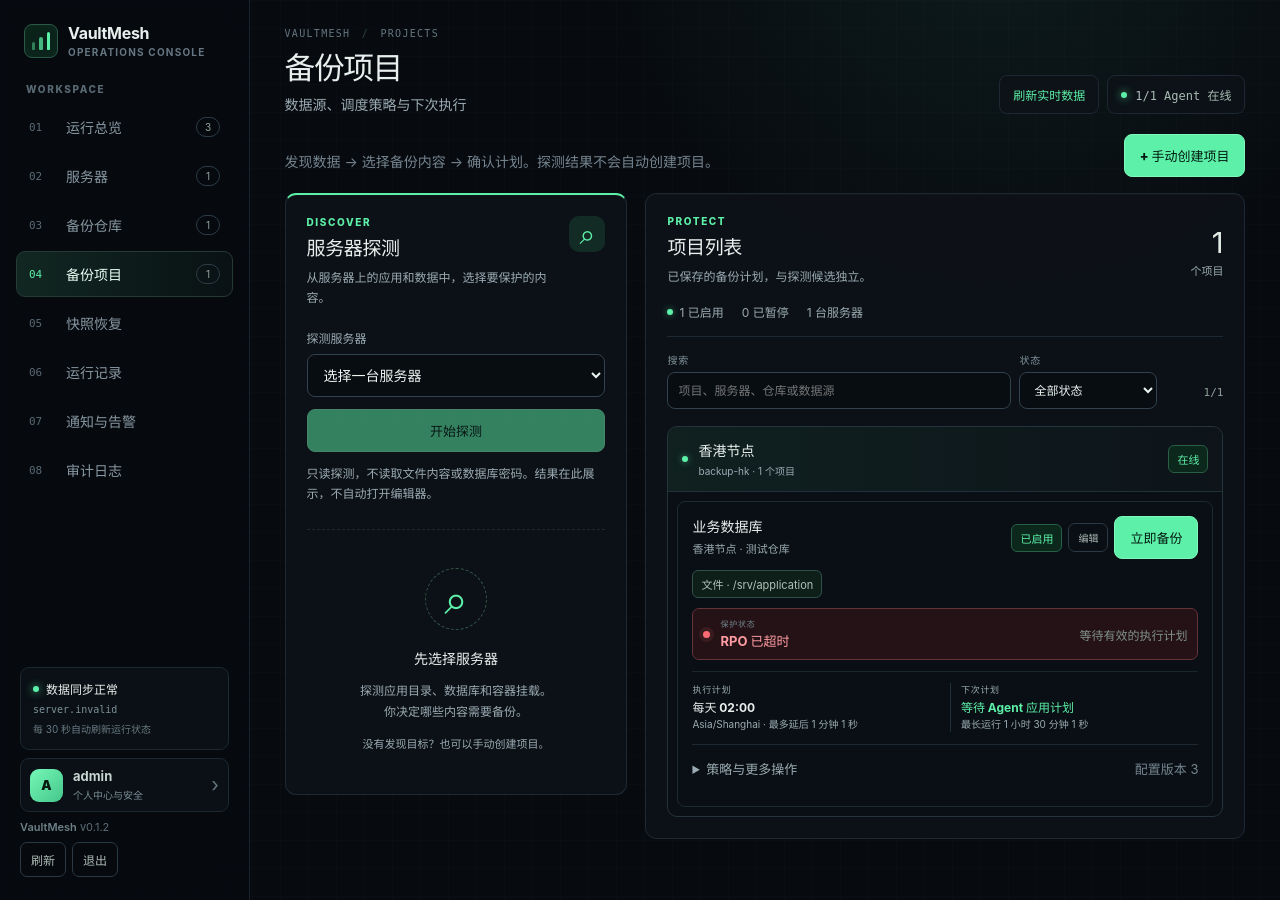
Test: complete application pages › renders the actual project list with queued-action props, then opens an editor without losing its draft
Expected: the element that starts with "PROTECT" is shown, [645,193,1245,839]
Click the button "编辑": (1088, 538) [1068,523,1108,552]
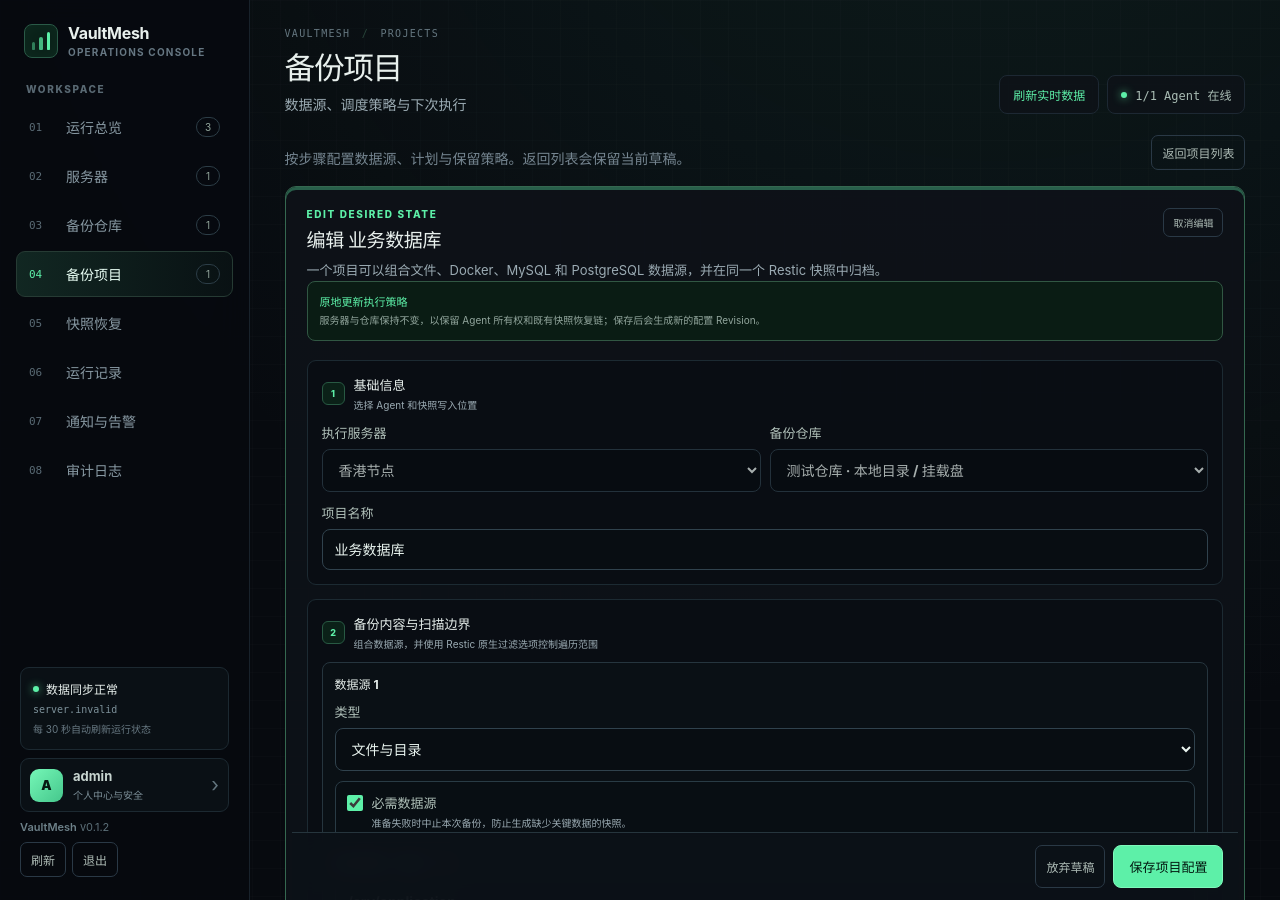
Replace the text in the field labelled "项目名称" with "尚未保存的修改": (765, 549) [322,529,1208,570]
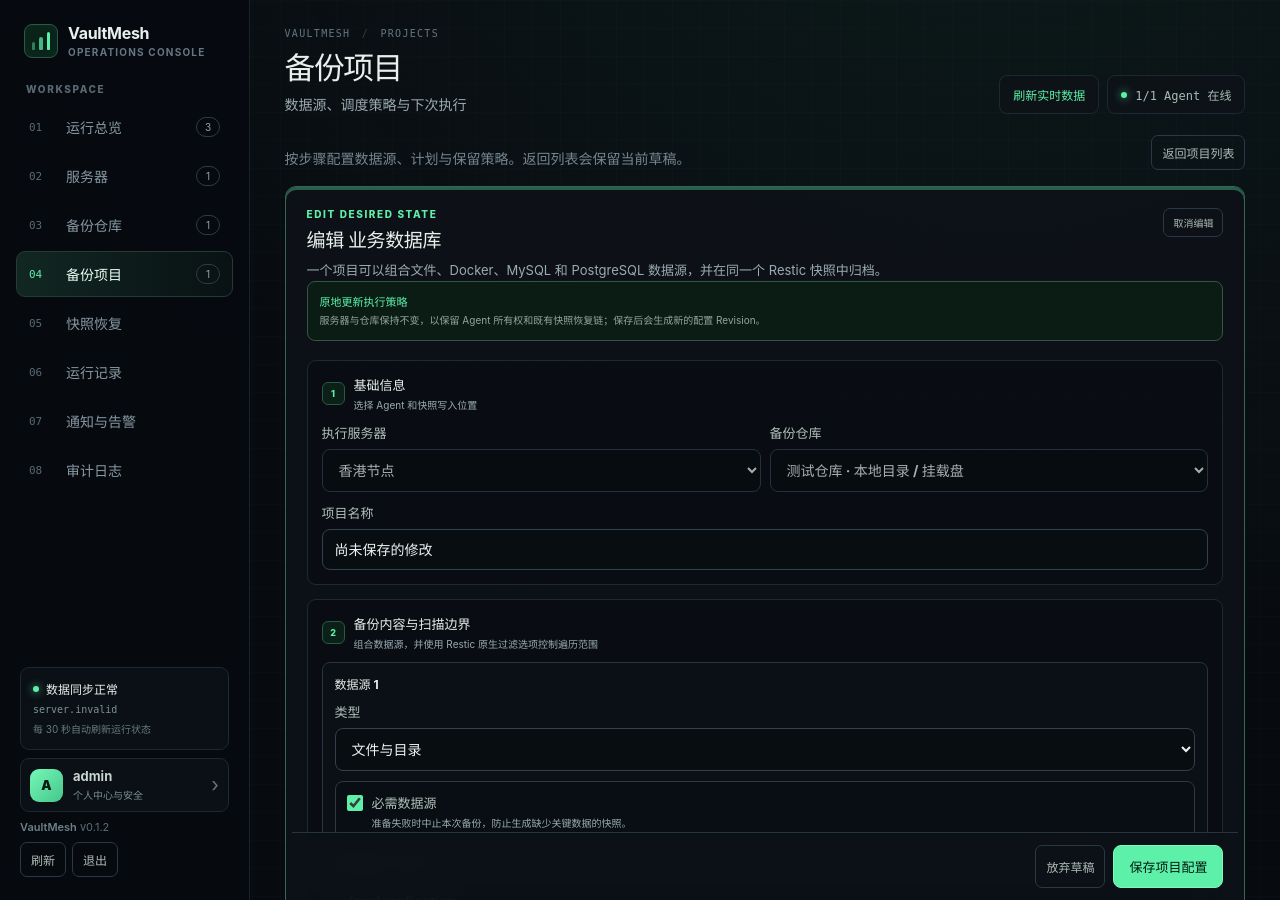
Click the button "返回项目列表": (1198, 152) [1151,135,1245,170]
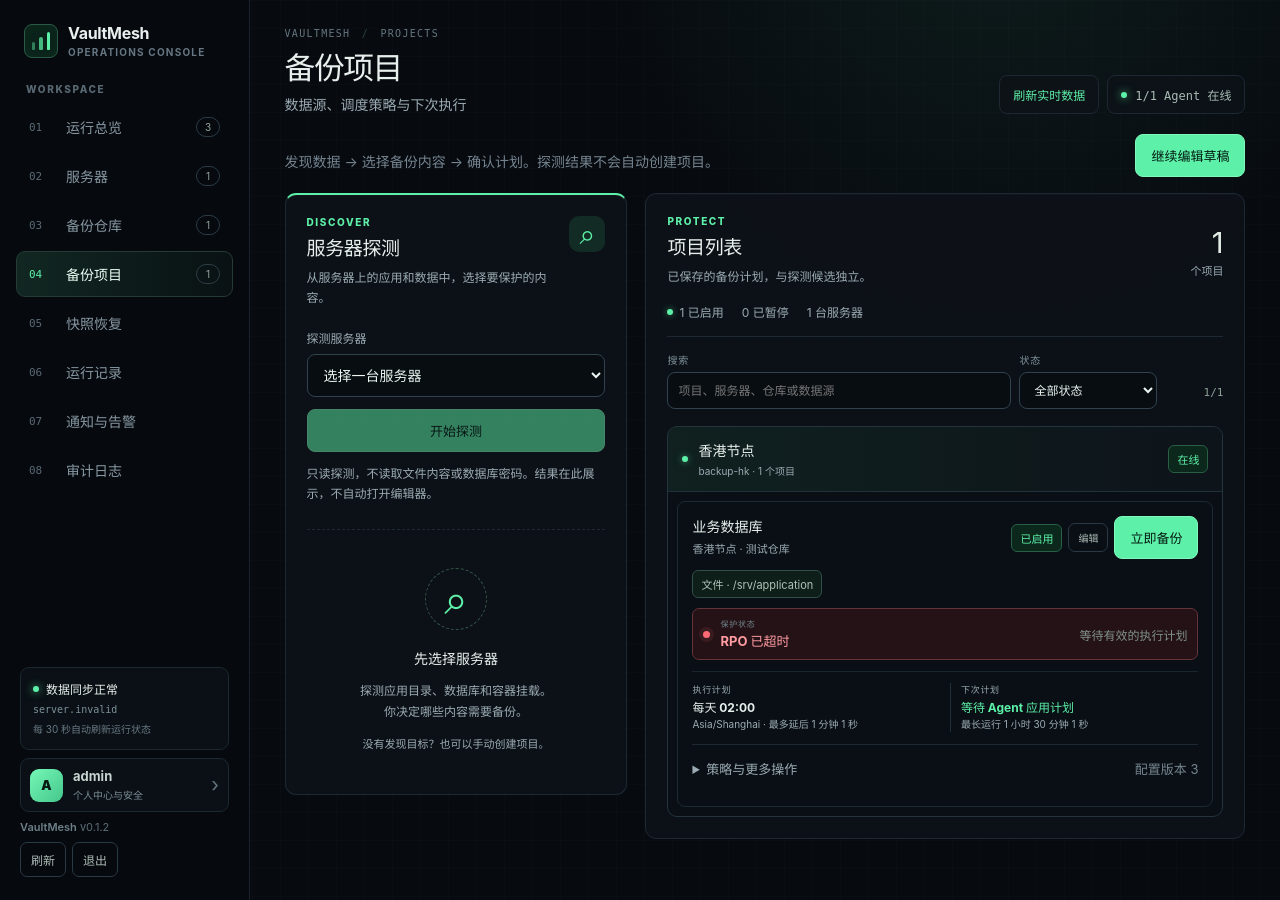
Click the button "继续编辑草稿": (1190, 156) [1135,134,1245,177]
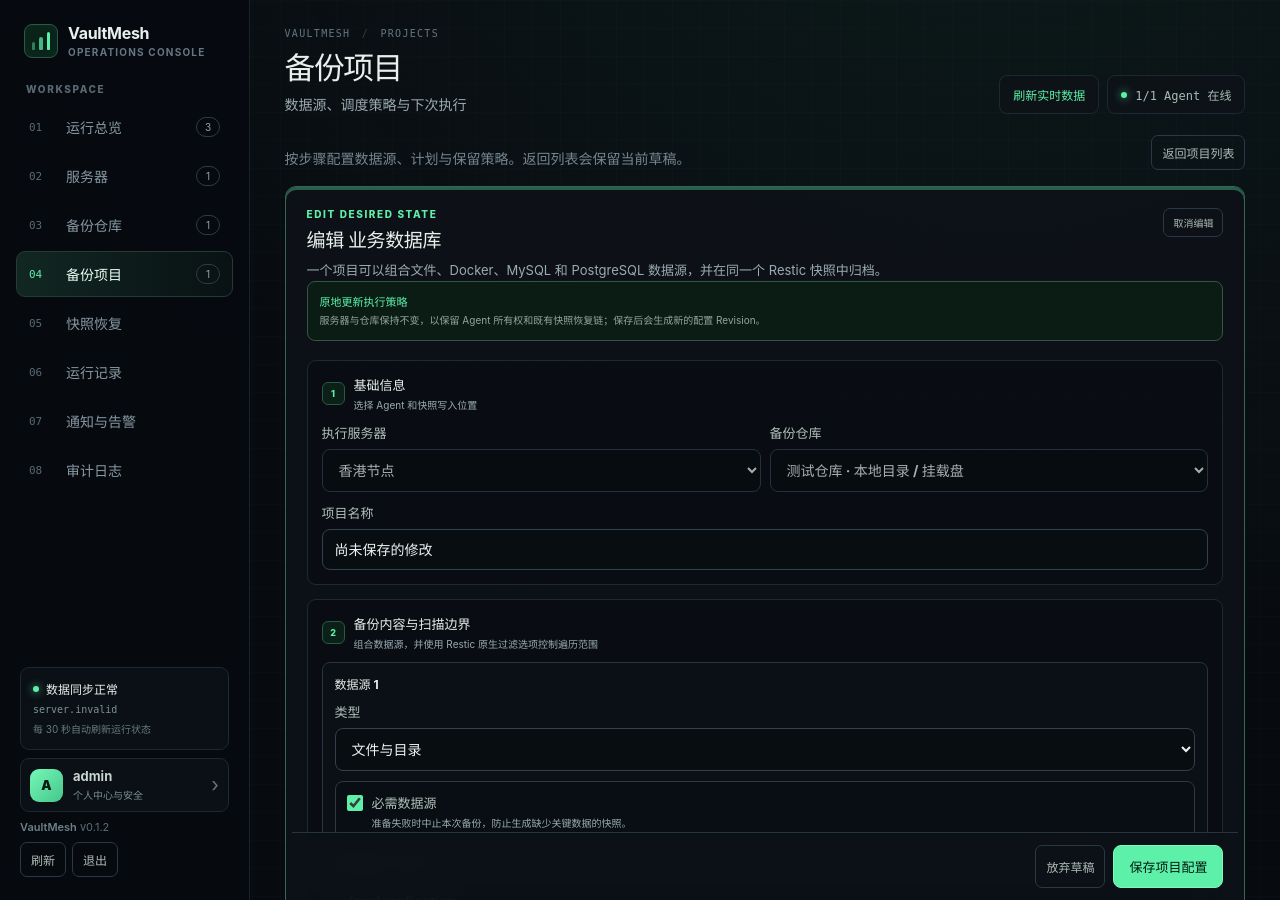
Expected: the field labelled "项目名称" holds "尚未保存的修改", [322,529,1208,570]
